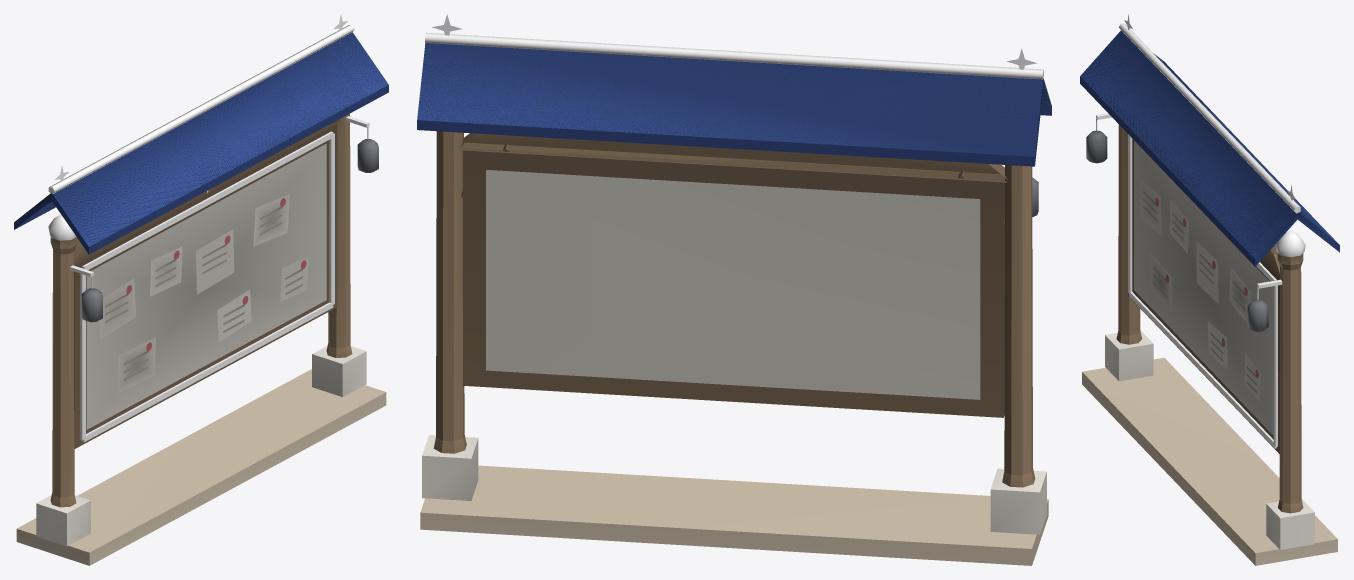
The model's file is board_hq.glb.
The picture shows the model from 3 angles, left to right: view 1: azimuth 30°, elevation 25°; view 2: azimuth 150°, elevation 25°; view 3: azimuth 270°, elevation 25°; orthographic projection. The views are drawn at different scales.
Visible parts, largest first — view 1: Board_props, Board_stone, Board_roof, Board_gold; view 2: Board_props, Board_roof, Board_stone, Board_gold; view 3: Board_props, Board_stone, Board_roof, Board_gold.
Boxes of the visible parts, x1,y1,x2,y2 form: Board_props: (50,113,378,507); Board_stone: (16,346,386,565); Board_roof: (14,32,388,254); Board_gold: (48,14,369,442); Board_props: (433,131,1038,487); Board_roof: (417,43,1051,166); Board_stone: (420,435,1048,565); Board_gold: (425,14,1044,79); Board_props: (1086,124,1303,513); Board_stone: (1082,330,1337,565); Board_roof: (1080,30,1339,266); Board_gold: (1096,14,1305,448).
Bounding box in the file's own units: 4 × 3.48 × 2.22.
